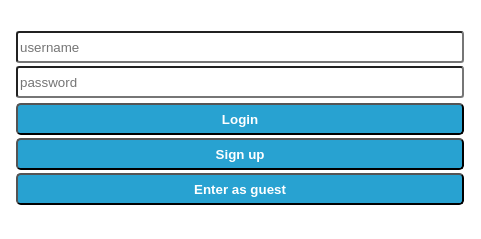
it: App › render login error message
Click the button "Login" at (240, 119), box [16,103,464,135]
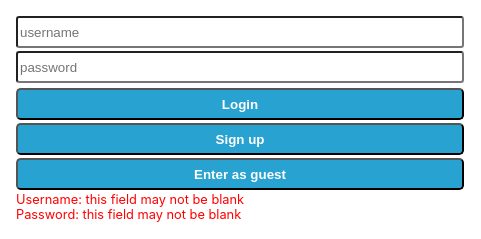
Expected: the text "Username: this field may not be blank" is shown, [16,192,244,207]
Expected: the text "Password: this field may not be blank" is shown, [16,207,241,222]
